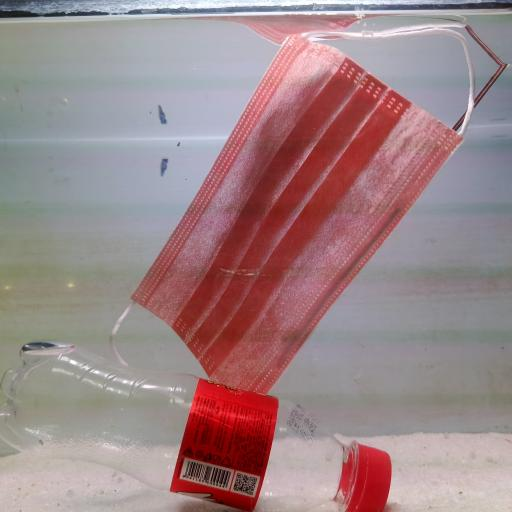bottle_cap: (354, 425, 396, 512)
mask: (112, 23, 476, 380)
plastic_bottle: (2, 334, 400, 512)
